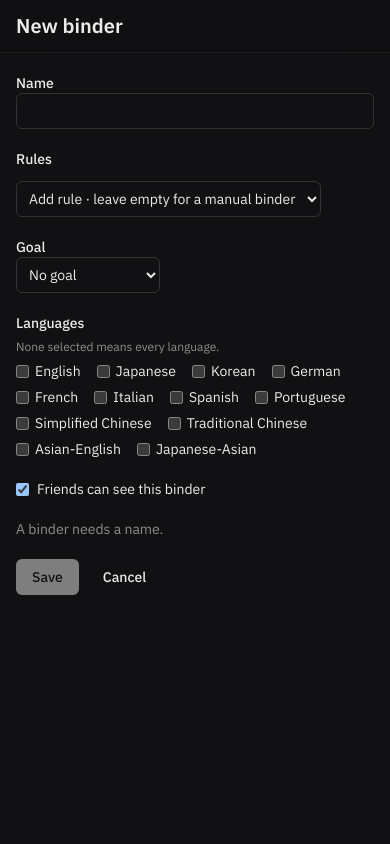
Test case: saving › disables Save for a too-broad rule and says why
The image size is (390, 844).
In the field labelled "Name": x=195, y=111 [16, 93, 374, 129], type "Everything"
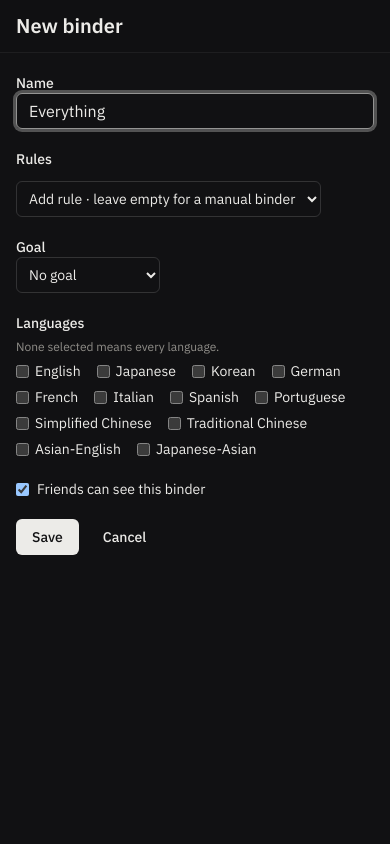
Select "Name" in the dropdown named "Add rule": x=168, y=199 [16, 181, 321, 217]
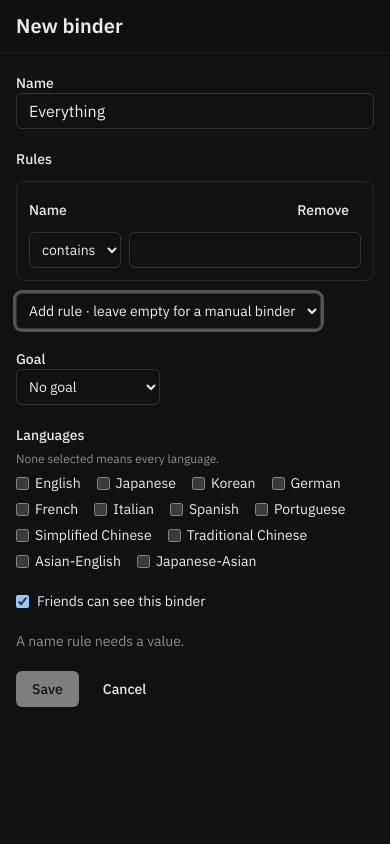
In the field named "Name value": x=245, y=250 [129, 232, 361, 268], type "a"
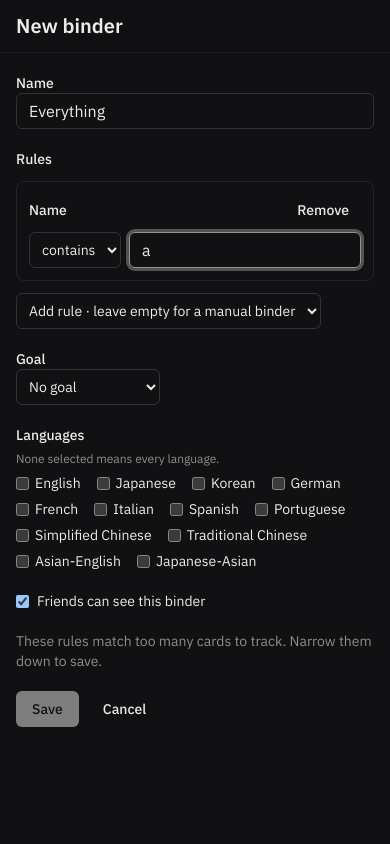
Now the button "Save" is disabled, box [16, 691, 79, 727]
Now the text "match too many cards" is shown, box [16, 632, 372, 670]
